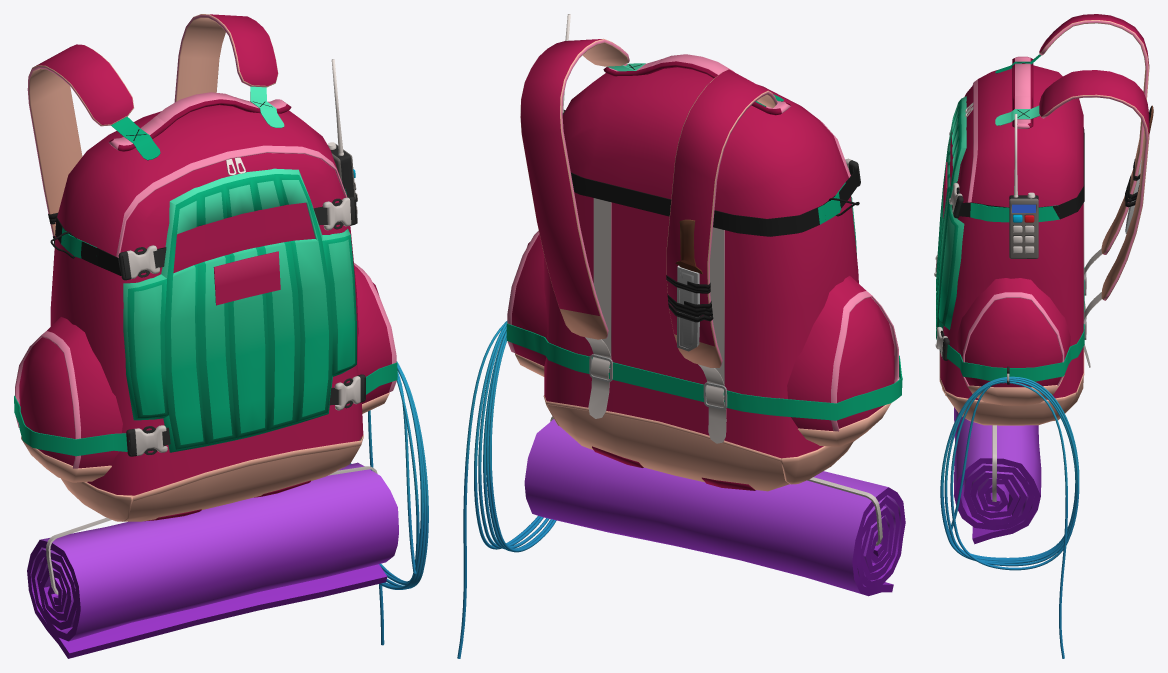
Rendered from SM_BackPack_01.fbx.
3 views of the same model, side by side, from view 1: azimuth 30°, elevation 25°; view 2: azimuth 150°, elevation 25°; view 3: azimuth 270°, elevation 25° (orthographic). The views are drawn at different scales.
Visible parts, largest first — view 1: SM_BackPack_01; view 2: SM_BackPack_01; view 3: SM_BackPack_01.
Boxes of the visible parts, x1,y1,x2,y2 form: SM_BackPack_01: (14,14,428,658); SM_BackPack_01: (457,14,905,658); SM_BackPack_01: (934,14,1153,658).
Size of the model in its own units: 117 by 185 by 69.18.
